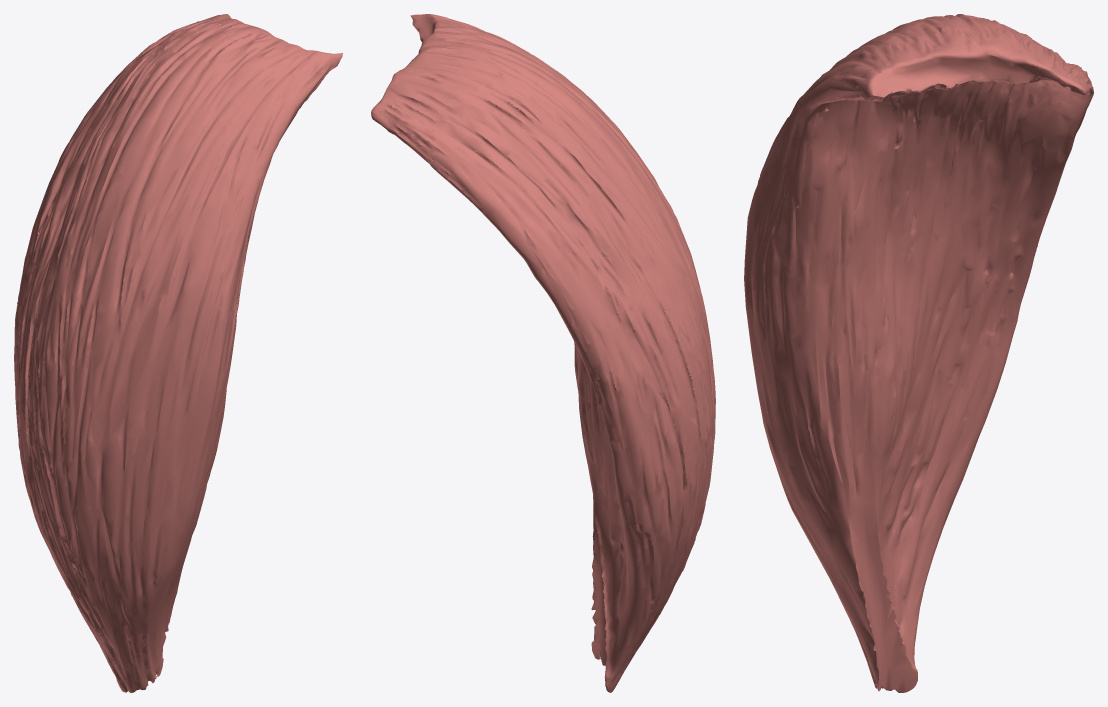
Rendered from fma34682-fj1467.glb.
3 renders of one model, left to right at view 1: azimuth 30°, elevation 25°; view 2: azimuth 150°, elevation 25°; view 3: azimuth 270°, elevation 25°, orthographic. The views are drawn at different scales.
Visible parts, largest first — view 1: FMA34682_FJ1467; view 2: FMA34682_FJ1467; view 3: FMA34682_FJ1467.
Boxes of the visible parts, x1=… form: FMA34682_FJ1467: x1=14, y1=14, x2=342, y2=692; FMA34682_FJ1467: x1=371, y1=14, x2=715, y2=692; FMA34682_FJ1467: x1=744, y1=14, x2=1093, y2=692.
Size of the model in its own units: 0.0731 by 0.1429 by 0.0615.
